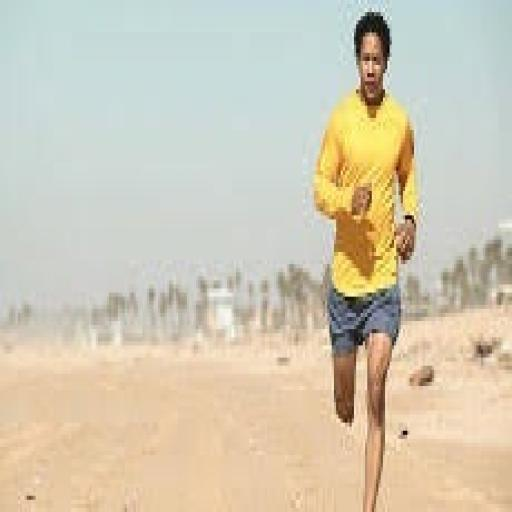running: (309, 8, 421, 508)
